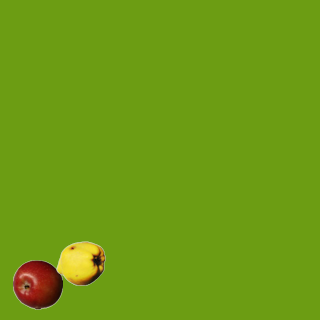Apple Braeburn: (12, 259, 62, 309)
Quince: (55, 238, 105, 288)
